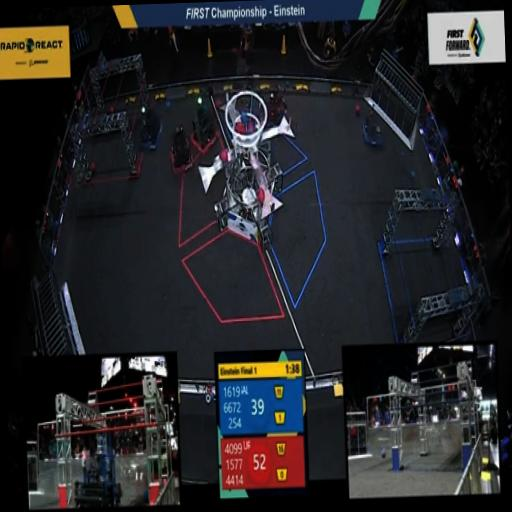robot: (163, 122, 196, 178), (186, 100, 220, 154), (134, 104, 165, 152), (358, 102, 384, 150), (263, 84, 289, 130)
